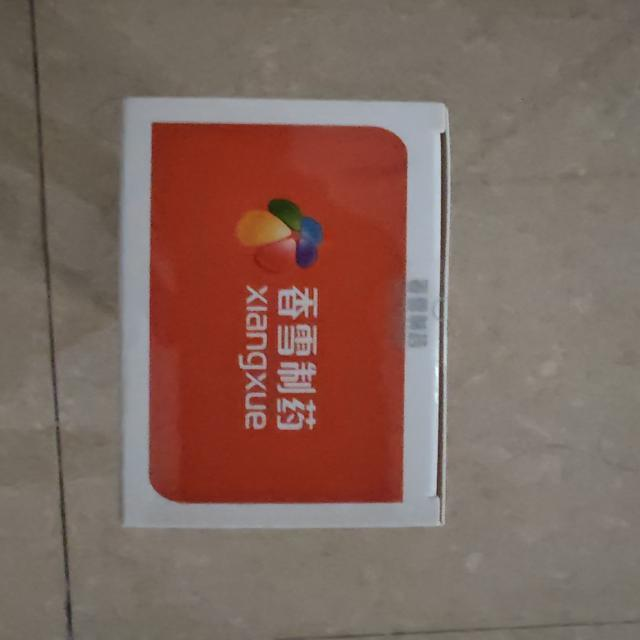box: (111, 81, 466, 548)
